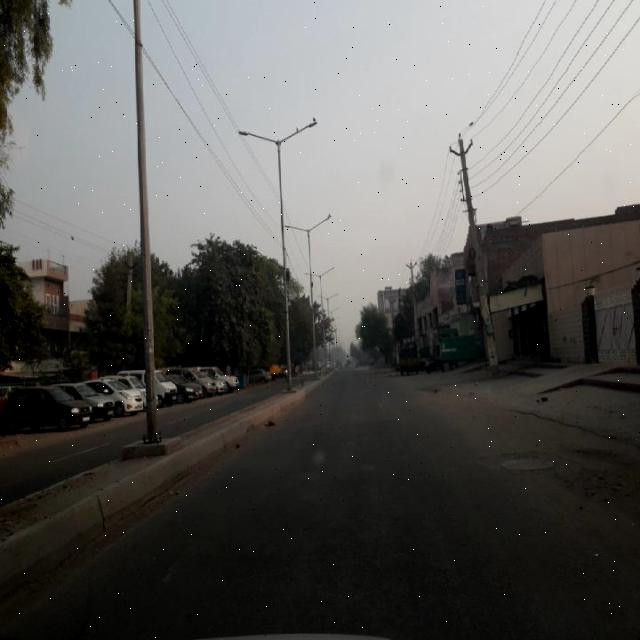D50: (489, 449, 568, 475)
